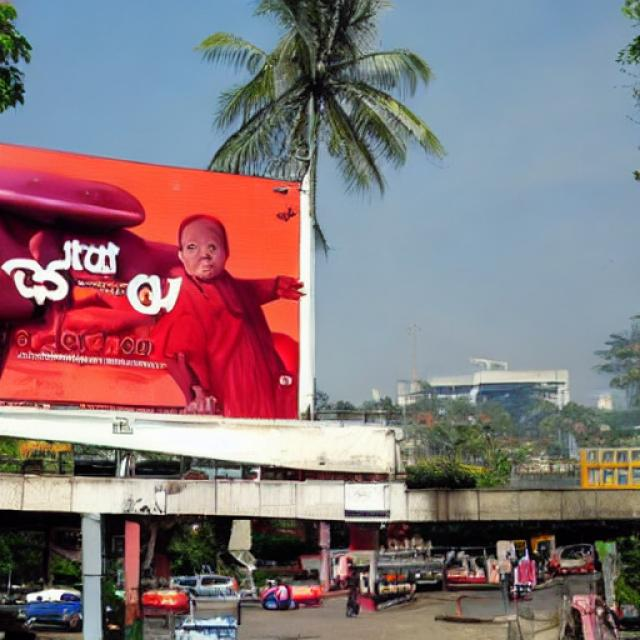Billboard: (0, 136, 311, 430)
